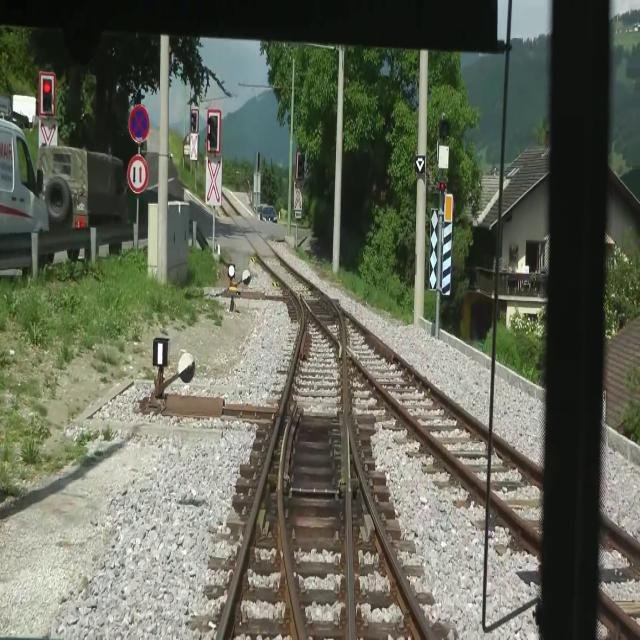rail-track: (221, 193, 351, 639), (338, 306, 543, 532), (350, 443, 426, 639)
